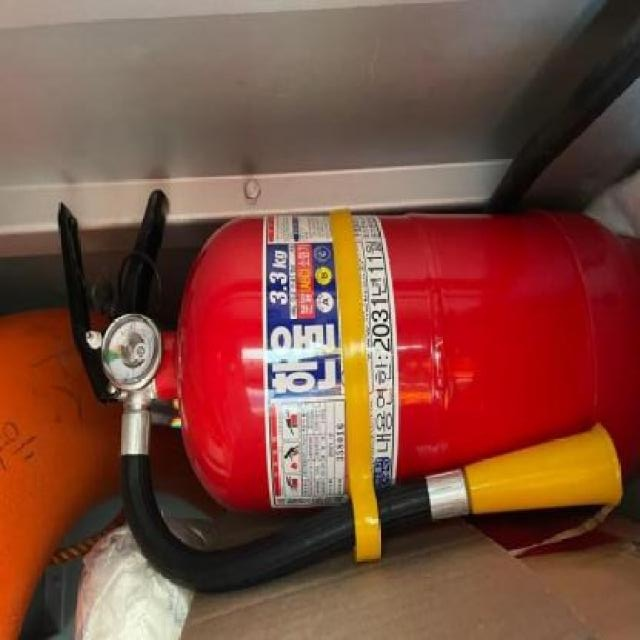fire extinguisher: (57, 189, 640, 594)
